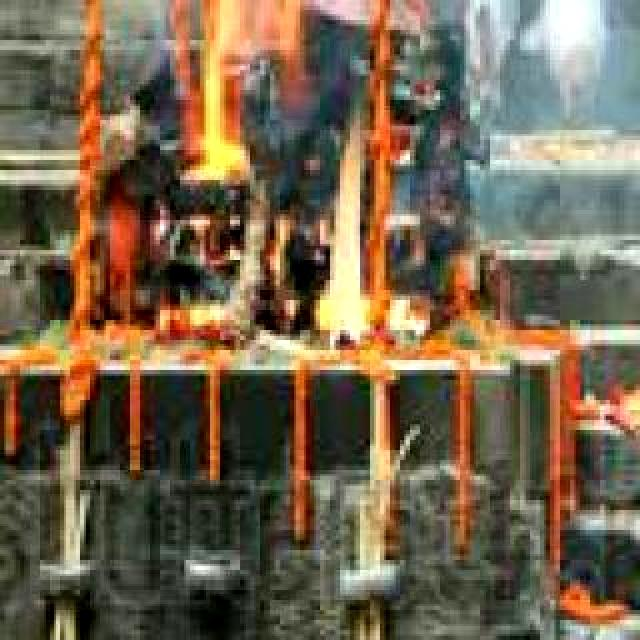fire: (184, 0, 390, 342)
